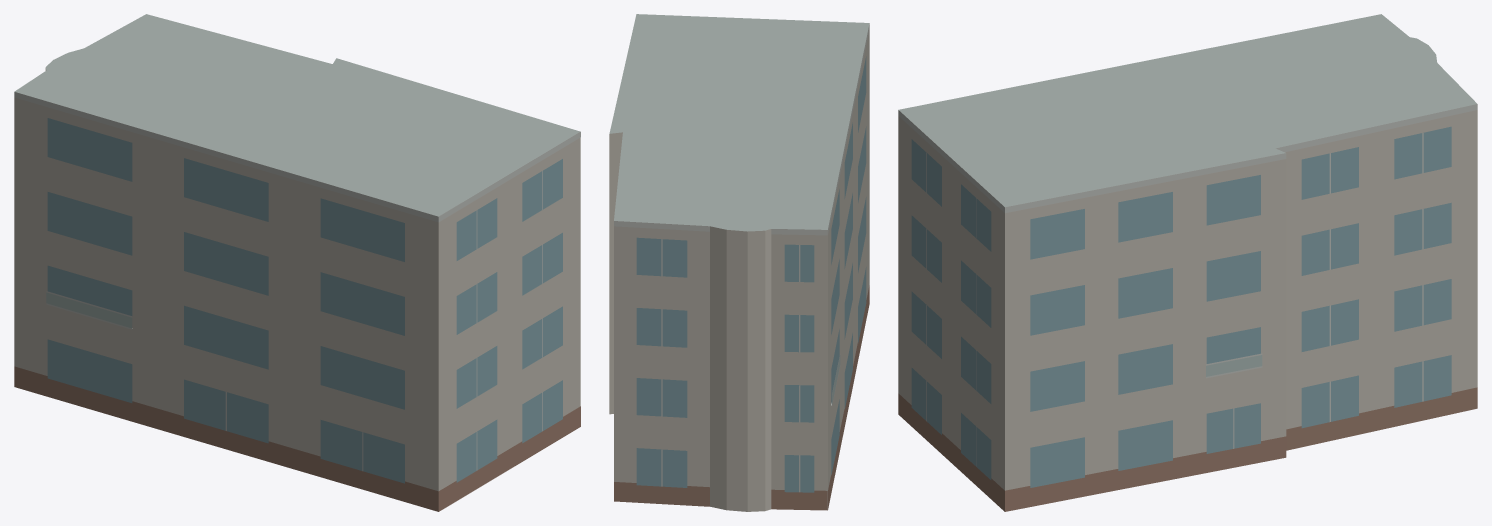
Rendered from survey-upis-32731919.glb.
The picture shows the model from 3 angles, left to right: view 1: azimuth 30°, elevation 25°; view 2: azimuth 150°, elevation 25°; view 3: azimuth 270°, elevation 25°; orthographic projection. The views are drawn at different scales.
Parts seen in each view (by area): view 1: survey-upis-32731919.tmp; view 2: survey-upis-32731919.tmp; view 3: survey-upis-32731919.tmp.
Part boxes in pixels (x1,y1,x2,y2): survey-upis-32731919.tmp: (14,14,580,511); survey-upis-32731919.tmp: (609,14,869,511); survey-upis-32731919.tmp: (898,14,1477,511).
Size of the model in its own units: 17.02 by 12.5 by 21.55.
